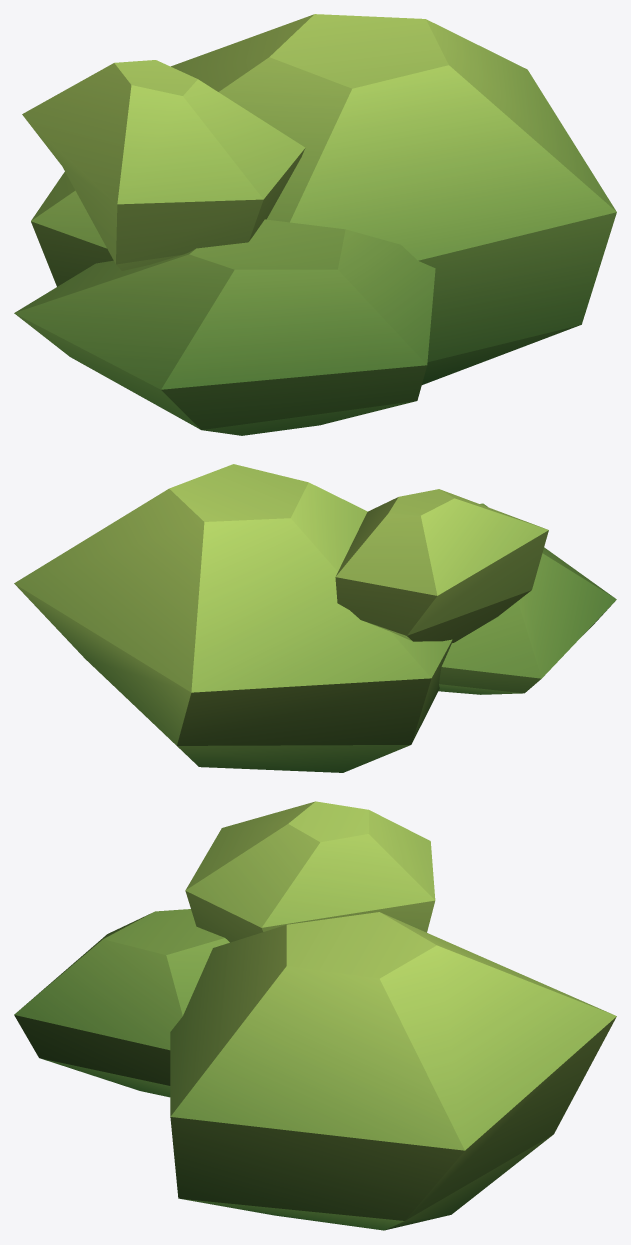
File: Bush_02.fbx
3 renders of one model, top to bottom at view 1: azimuth 30°, elevation 25°; view 2: azimuth 150°, elevation 25°; view 3: azimuth 270°, elevation 25°, orthographic. The views are drawn at different scales.
Visible parts, largest first — view 1: Bush_02_Mesh; view 2: Bush_02_Mesh; view 3: Bush_02_Mesh.
Boxes of the visible parts, x1,y1,x2,y2 form: Bush_02_Mesh: (14, 14, 616, 435); Bush_02_Mesh: (14, 464, 616, 772); Bush_02_Mesh: (14, 801, 616, 1230).
Bounding box in the file's own units: 717 × 402 × 718.
